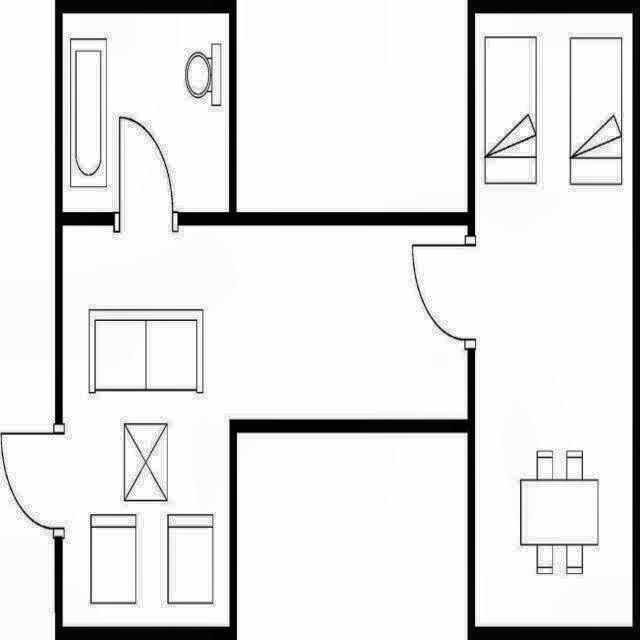room: (62, 226, 468, 626), (475, 13, 632, 626), (63, 14, 228, 212)
